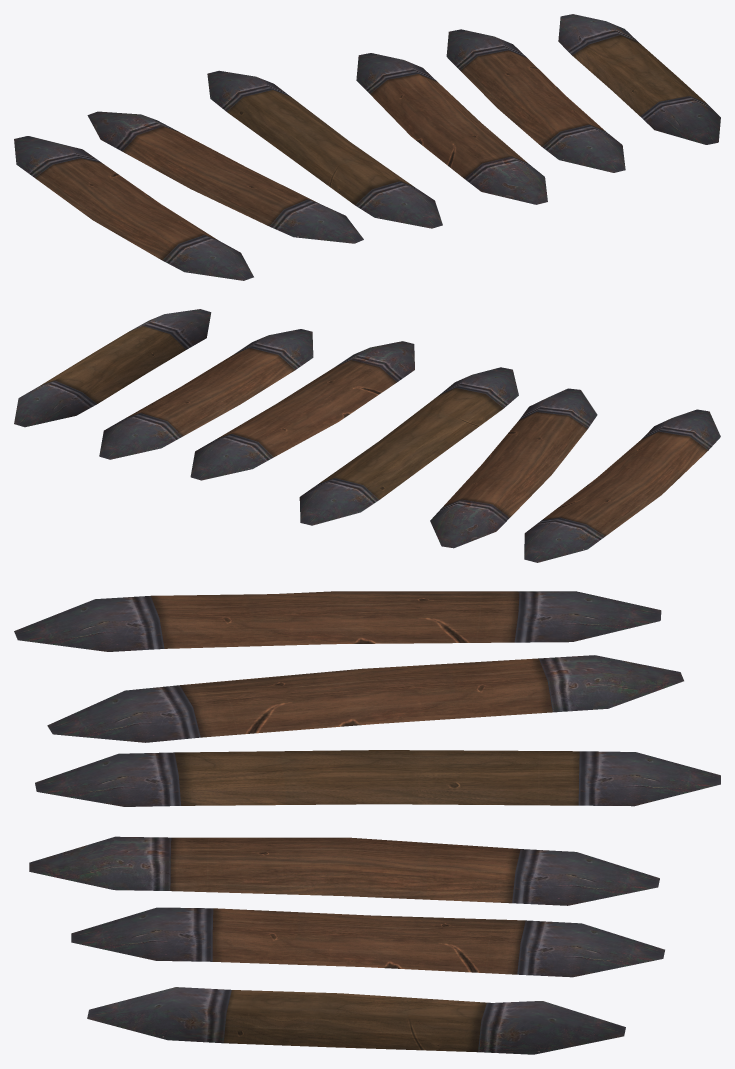
Rendered from SV_BUD_desert_zhengmu_0.FBX.
3 views of the same model, one above another, from view 1: azimuth 30°, elevation 25°; view 2: azimuth 150°, elevation 25°; view 3: azimuth 270°, elevation 25° (orthographic). The views are drawn at different scales.
Visible parts, largest first — view 1: SV_BUD_desert_zhengmu_0; view 2: SV_BUD_desert_zhengmu_0; view 3: SV_BUD_desert_zhengmu_0.
Part boxes in pixels (bbox=[...]): SV_BUD_desert_zhengmu_0: bbox=[14, 14, 720, 280]; SV_BUD_desert_zhengmu_0: bbox=[14, 309, 720, 562]; SV_BUD_desert_zhengmu_0: bbox=[14, 591, 720, 1054].
Size of the model in its own units: 6.98 by 0.1375 by 4.5.
